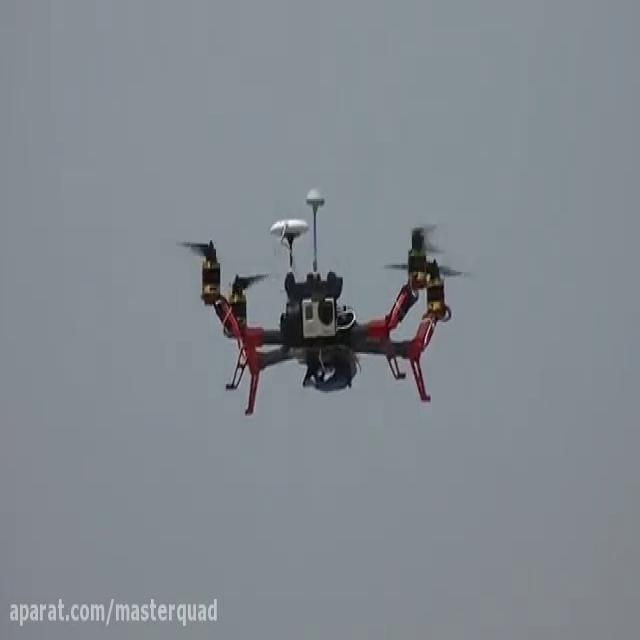drone: (172, 181, 476, 416)
